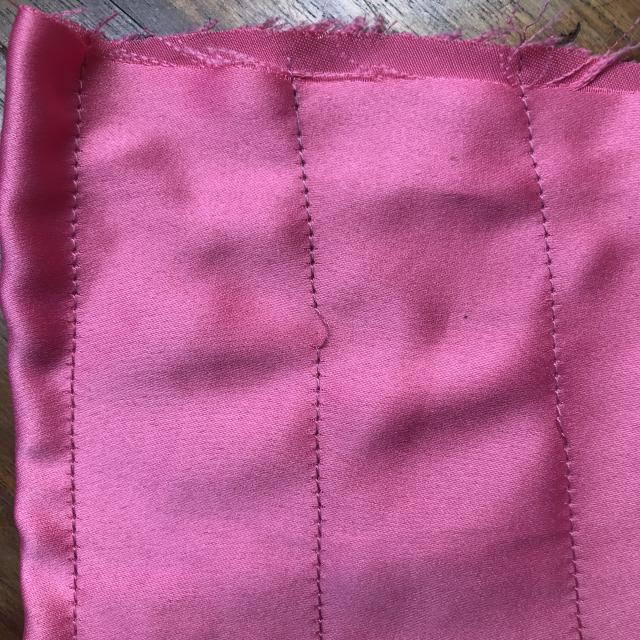skip: (297, 284, 345, 360)
